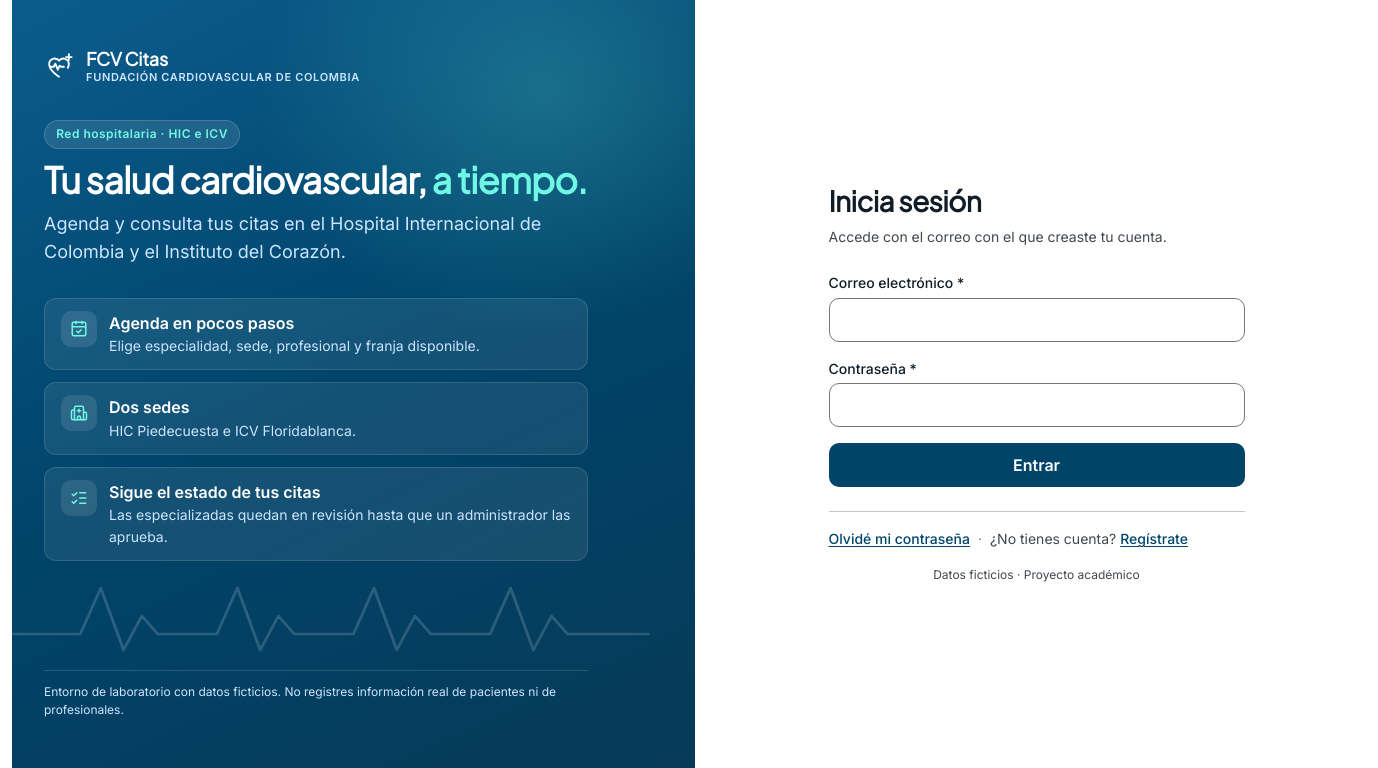
Test case: flujo de sesión en la aplicación › HU-002 CA-09: tras el login, la vista protegida muestra lo que devuelve /api/me
Type "ana@fcv.test" into the field labelled "Correo electrónico *".
click(1036, 320); type("ana@fcv.test")  # box [828,298,1244,342]
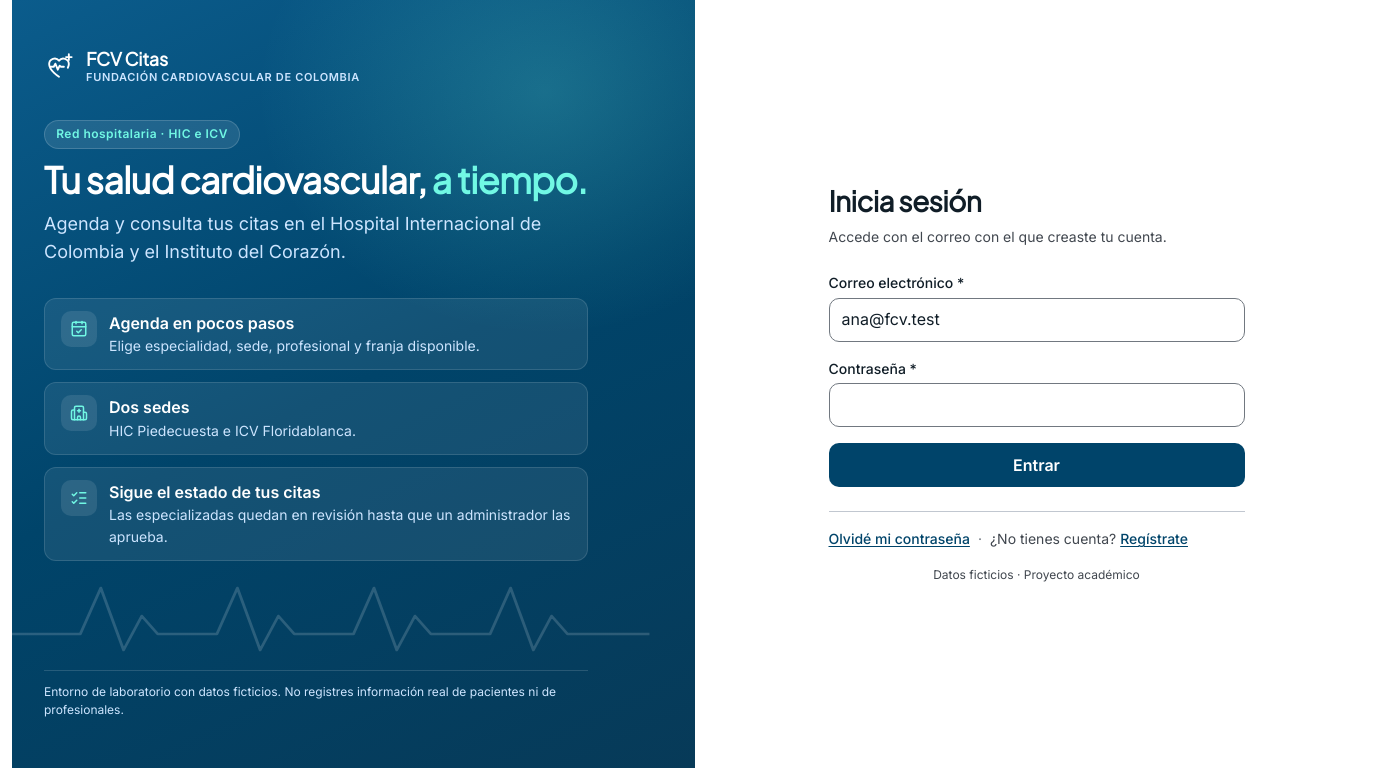
Type "Clave-Secreta#2026" into the password field labelled "Contraseña *".
click(1036, 405); type("Clave-Secreta#2026")  # box [828,383,1244,427]
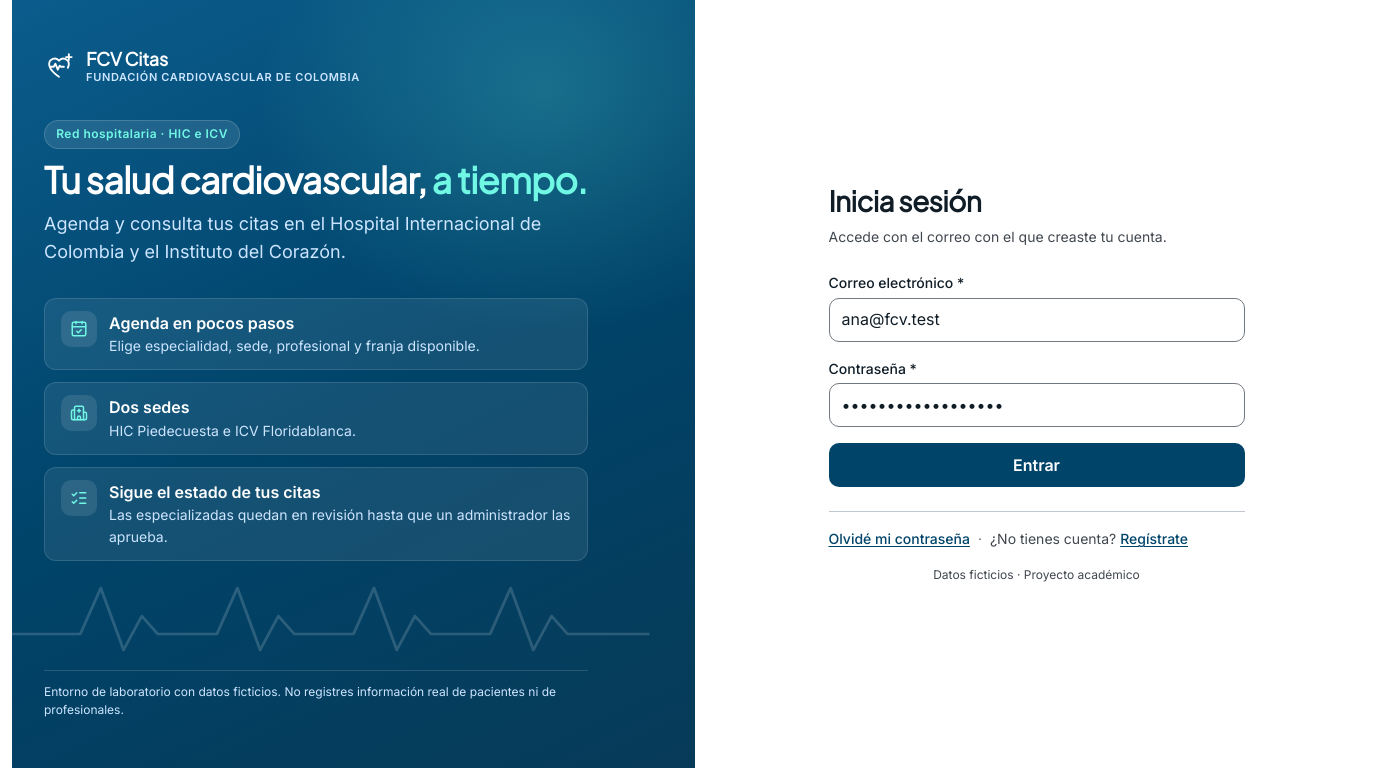
Click the button "Entrar".
click(1036, 465)  # box [828,443,1244,487]
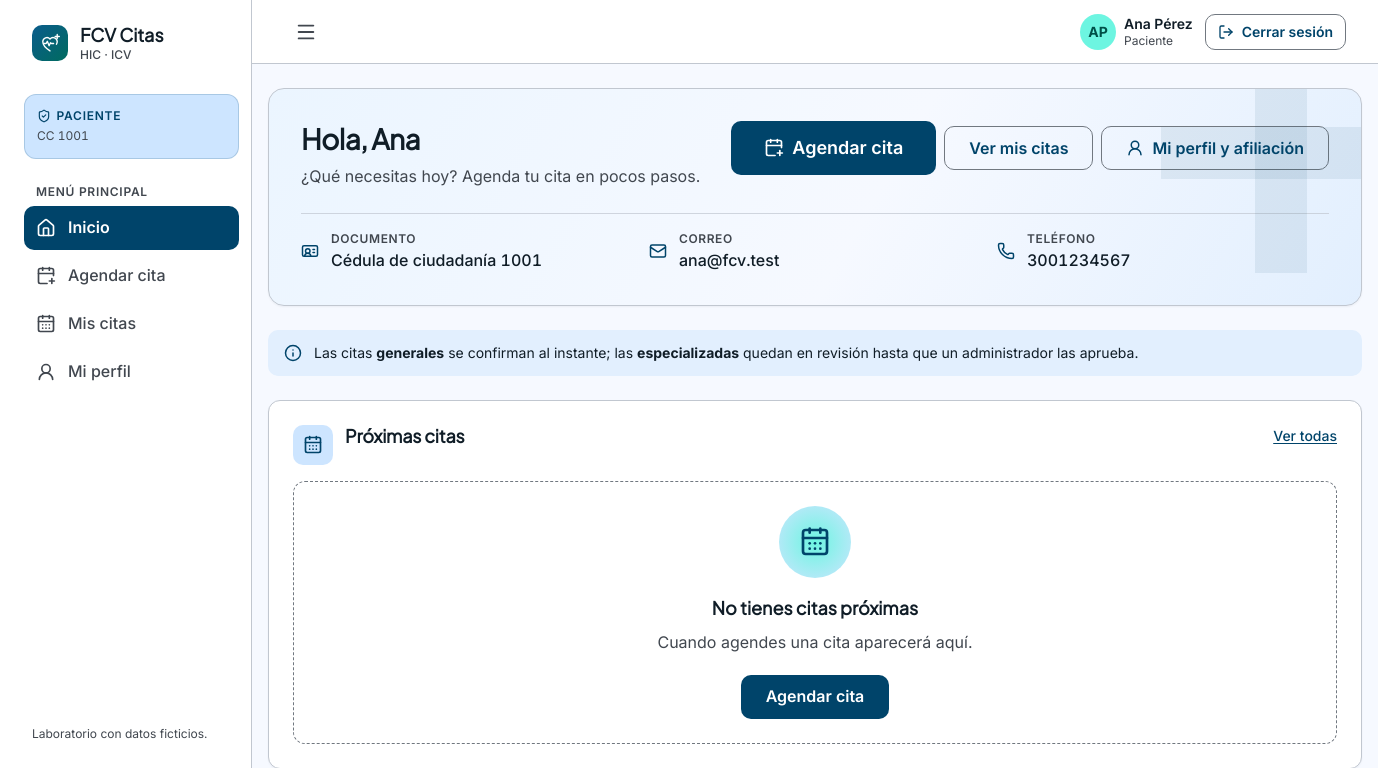
Check: the text "Ana Pérez" is shown, box [1124,15,1193,33]
Check: the text "ana@fcv.test" is shown, box [679,248,779,273]
Check: the text "Cédula de ciudadanía 1001" is shown, box [331,248,542,273]
